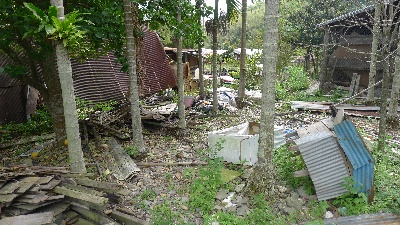box: (209, 122, 286, 166)
